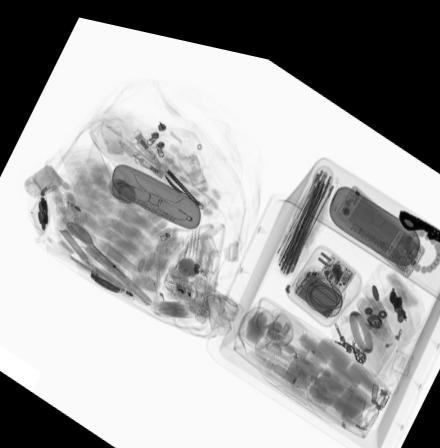Knife: (89, 267, 123, 290)
